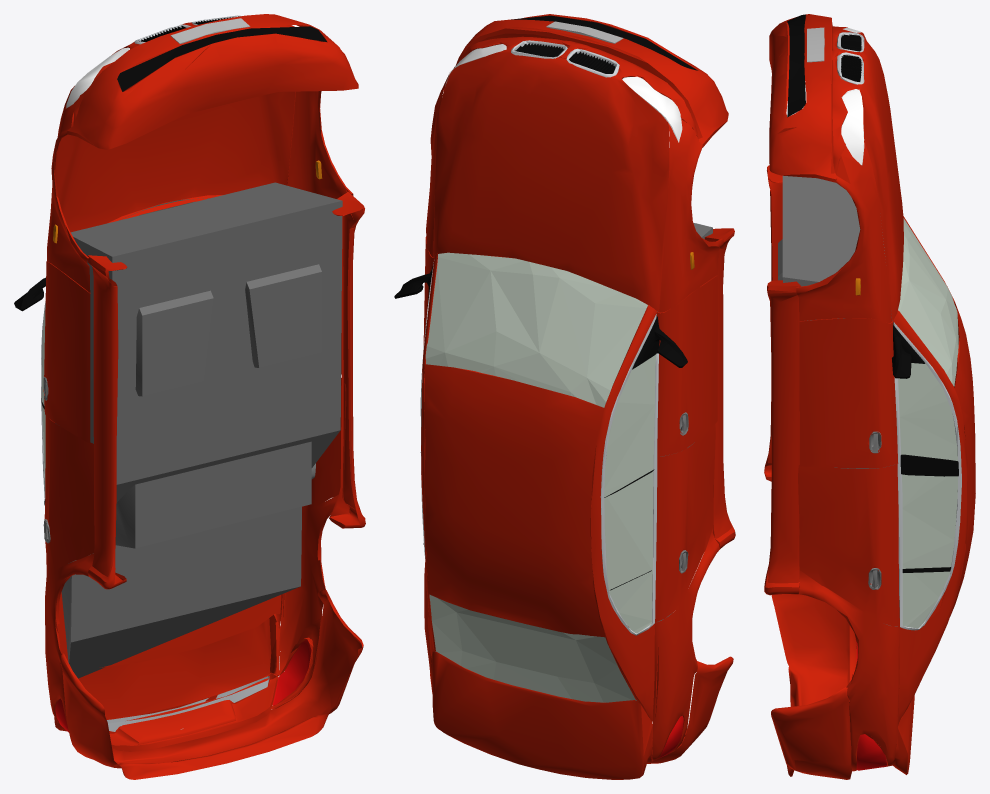
Rendered from bmwm7.FBX.
3 views of the same model, side by side, from view 1: azimuth 30°, elevation 25°; view 2: azimuth 150°, elevation 25°; view 3: azimuth 270°, elevation 25° (orthographic). The views are drawn at different scales.
Visible parts, largest first — view 1: bmw7, Glass; view 2: bmw7, Glass; view 3: bmw7, Glass.
Boxes of the visible parts, x1,y1,x2,y2 form: bmw7: (14,14,365,779); Glass: (42,198,209,494); bmw7: (394,14,735,779); Glass: (425,252,656,702); bmw7: (764,14,975,779); Glass: (898,218,958,630).
Size of the model in its own units: 214 by 503 by 137.
